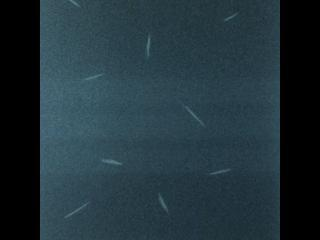scratch: (148, 188, 178, 218), (59, 197, 98, 220), (181, 101, 209, 131), (202, 162, 236, 182), (138, 31, 158, 62), (216, 7, 246, 26), (93, 153, 128, 168), (80, 70, 108, 84), (63, 0, 87, 11)
